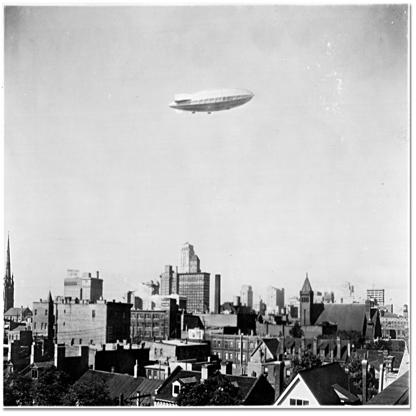Airship: (167, 78, 260, 121)
